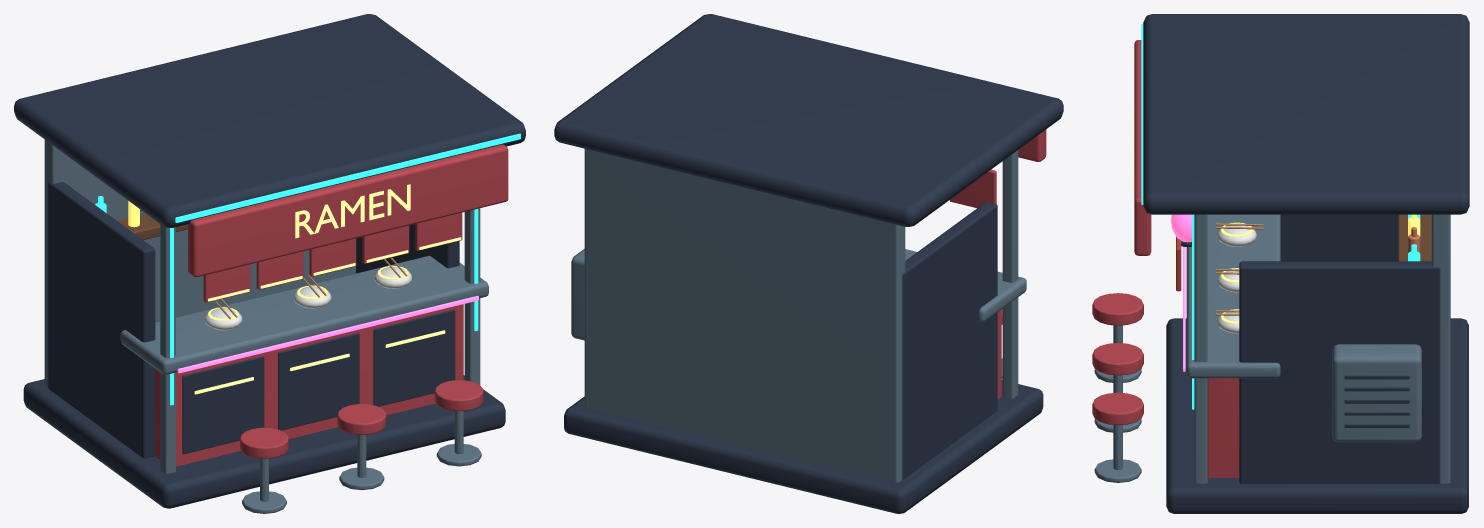
The model's file is city_kiosk.glb.
3 views of the same model, side by side, from view 1: azimuth 30°, elevation 25°; view 2: azimuth 150°, elevation 25°; view 3: azimuth 270°, elevation 25° (orthographic). The views are drawn at different scales.
Visible parts, largest first — view 1: canopy, side panel, sign backing, kiosk foundation, steel countertop, back wall, counter cabinet, cabinet inset.002, cabinet inset, cabinet inset.001, front support, front support.001 (+20 smaller); view 2: back wall, canopy, side panel, kiosk foundation, front support, side service box, steel countertop, fabric curtain, sign backing; view 3: canopy, side panel.001, kiosk foundation, side service box, steel countertop, side panel, front support.001, back wall, counter cabinet, sign backing, stool seat, stool seat.002 (+8 smaller).
Part boxes in pixels (x1=…): canopy: x1=14, y1=14, x2=525, y2=227; side panel: x1=48, y1=182, x2=155, y2=458; sign backing: x1=188, y1=144, x2=508, y2=277; kiosk foundation: x1=23, y1=375, x2=505, y2=508; steel countertop: x1=120, y1=255, x2=488, y2=374; back wall: x1=44, y1=140, x2=355, y2=387; counter cabinet: x1=154, y1=304, x2=463, y2=466; cabinet inset.002: x1=373, y1=309, x2=455, y2=406; cabinet inset: x1=182, y1=356, x2=264, y2=454; cabinet inset.001: x1=278, y1=333, x2=359, y2=430; front support: x1=160, y1=224, x2=175, y2=473; front support.001: x1=464, y1=208, x2=480, y2=384; back wall: x1=584, y1=148, x2=905, y2=482; canopy: x1=554, y1=14, x2=1063, y2=226; side panel: x1=902, y1=202, x2=997, y2=479; kiosk foundation: x1=564, y1=380, x2=1043, y2=513; front support: x1=1002, y1=150, x2=1018, y2=398; side service box: x1=571, y1=249, x2=584, y2=340; steel countertop: x1=905, y1=249, x2=1026, y2=321; fabric curtain: x1=949, y1=169, x2=996, y2=207; sign backing: x1=1018, y1=129, x2=1046, y2=161; canopy: x1=1143, y1=14, x2=1469, y2=214; side panel.001: x1=1239, y1=261, x2=1440, y2=483; kiosk foundation: x1=1166, y1=318, x2=1468, y2=513; side service box: x1=1332, y1=344, x2=1421, y2=442; steel countertop: x1=1186, y1=214, x2=1280, y2=378; side panel: x1=1280, y1=214, x2=1397, y2=261; front support.001: x1=1194, y1=214, x2=1207, y2=483; back wall: x1=1431, y1=214, x2=1450, y2=483; counter cabinet: x1=1207, y1=378, x2=1239, y2=477; sign backing: x1=1134, y1=40, x2=1151, y2=255; stool seat: x1=1092, y1=293, x2=1143, y2=325; stool seat.002: x1=1092, y1=392, x2=1143, y2=425.
Bounding box in the file's own units: 3.97 × 3.21 × 3.37.
